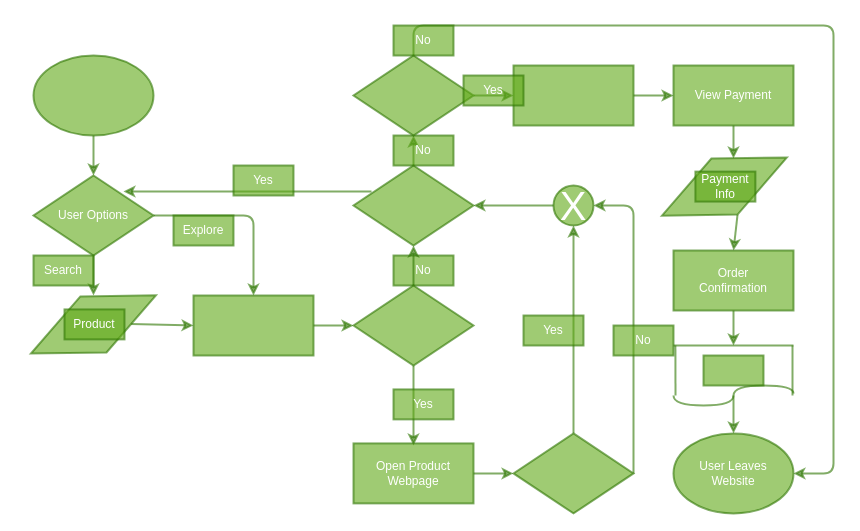
This 860x531 diagram has some shape labels left out. Here are the shapes that lost their labels. From the top down, the box of each, then its label:
(32, 54, 154, 136): User Enters Website
(352, 54, 474, 136): Checkout
(512, 64, 634, 126): View Cart
(352, 164, 474, 246): Continue Shopping
(192, 294, 314, 356): Display Products
(352, 284, 474, 366): View Product
(702, 354, 764, 386): Email Confirmation
(512, 432, 634, 514): Add to Cart
